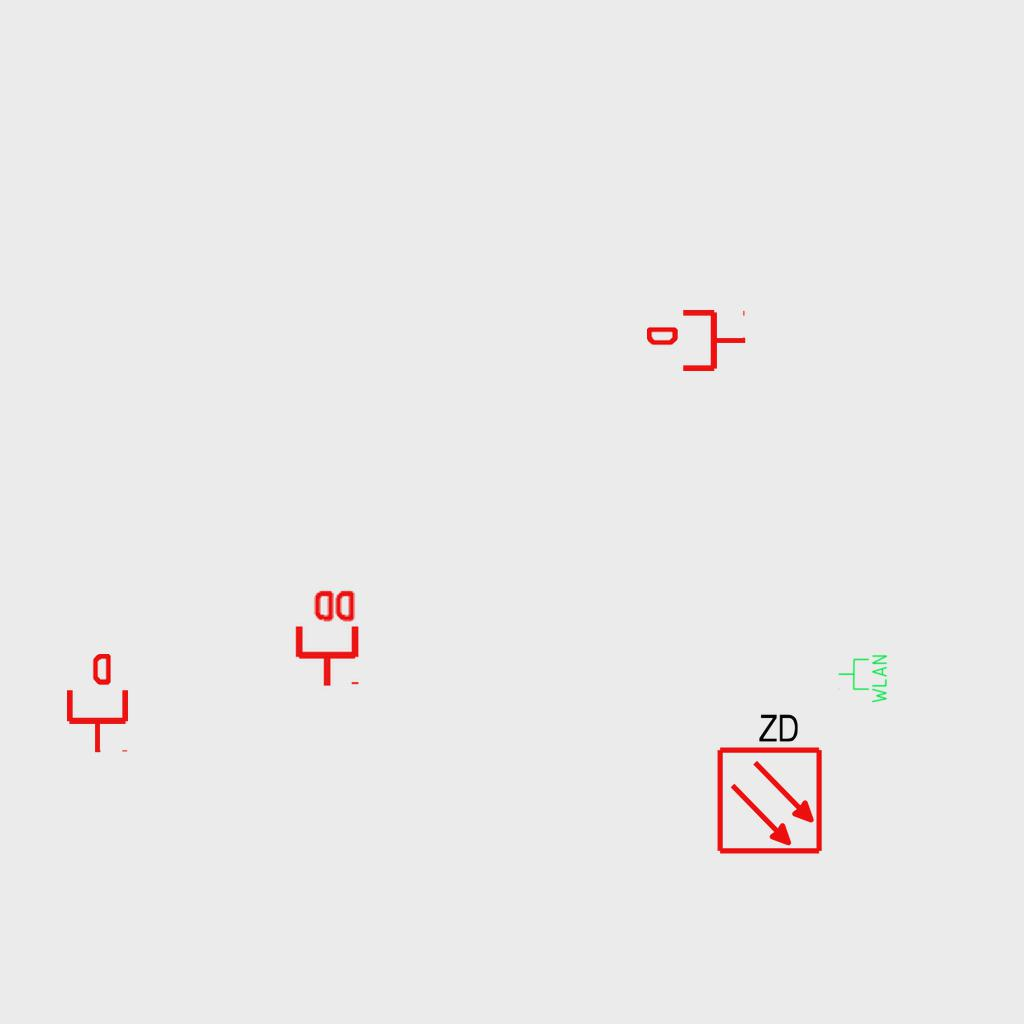Datenanschluss_einfach: (647, 306, 747, 375), (63, 654, 132, 754)
Datenanschluss_zweifach: (291, 586, 360, 689)
WLAN: (837, 653, 889, 705)
ZD_Melder_in_Zwischendecke_mit_Revisionsoeffnung_mind_40_x_40_cm: (711, 707, 825, 856)
